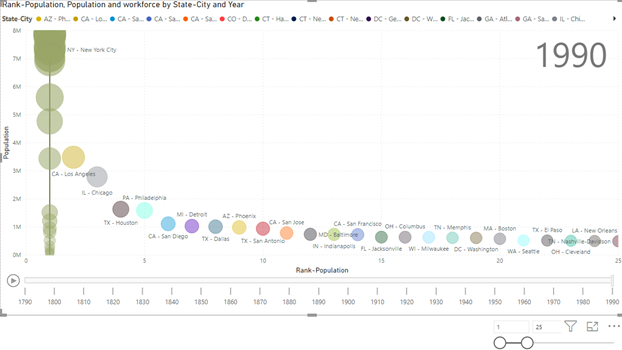

The dashboard page shown, as its layout file describes it:
{"tool":"powerbi","page":{"name":"Top 25 US Cities - Population","canvas":[1280,720],"ordinal":0},"visuals":[{"type":"slicer","fields":{"Values":["FinalList.Rank-Population"]},"box":[999.4,648.2,281,71.8],"z":0},{"type":"scatterChart","fields":{"X":["Sum(FinalList.Rank-Population)"],"Y":["Sum(FinalList.Population)"],"Size":["FinalList.workforce"],"Series":["FinalList.State-City"],"Play":["FinalList.Year"]},"box":[0,0,1280.4,648.2],"z":1}]}

Visuals, with their boxes on the page's 1280x720 design canvas (x1, y1, x2, y2). These are canvas units, not pixel positions in the 622x350 screenshot, which may show the page scaled, cropped or inside an application window:
slicer - FinalList.Rank-Population: l=999, t=648, r=1280, b=720
scatterChart - Sum(FinalList.Rank-Population) x Sum(FinalList.Population): l=0, t=0, r=1280, b=648
